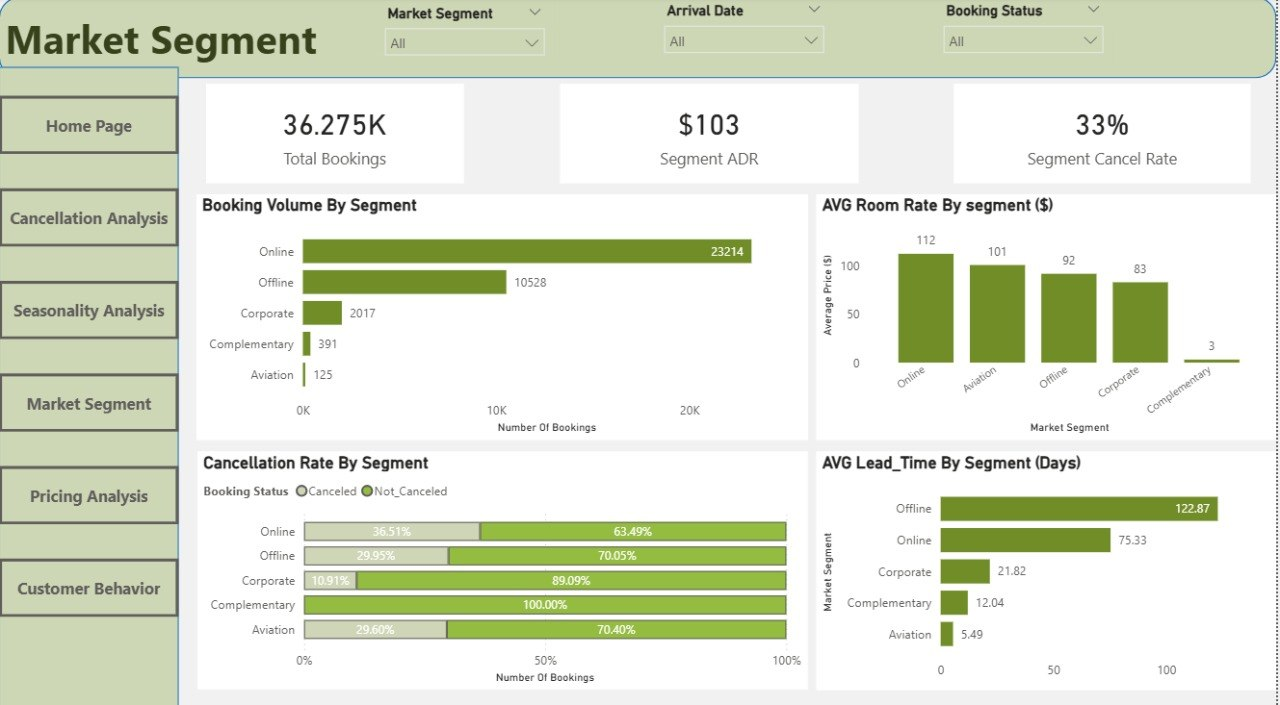

The dashboard page shown, as its layout file describes it:
{"tool":"powerbi","page":{"name":"Market Segment ","canvas":[1280,720],"ordinal":3},"visuals":[{"type":"shape","title":" ","box":[0,0,1280,81.2],"z":0},{"type":"hundredPercentStackedBarChart","title":"Cancellation Rate By Segment ","fields":{"Category":["Dim_Segment.market_segment_type"],"Y":["CountNonNull(Fact _Reservations.Booking_ID)"],"Series":["Dim_status.booking_status"]},"box":[198.8,456.2,611.2,238.8],"z":1000},{"type":"clusteredBarChart","title":"Booking Volume By Segment","fields":{"Category":["Dim_Segment.market_segment_type"],"Y":["Count(Fact _Reservations.Booking_ID)"]},"box":[197.5,197.5,612.5,246.2],"z":2000},{"type":"clusteredBarChart","title":"AVG Lead_Time By Segment (Days)","fields":{"Category":["Dim_Segment.market_segment_type"],"Y":["Avg(Fact _Reservations.lead_time)"]},"box":[819,456,461,239],"z":3000},{"type":"shape","box":[0,69.8,180.1,650.5],"z":4000},{"type":"clusteredColumnChart","title":"AVG Room  Rate By segment ($)","fields":{"Category":["Dim_Segment.market_segment_type"],"Y":["Avg(Fact _Reservations.avg_price_per_room)"]},"box":[819.2,197.9,460.9,246.1],"z":5000},{"type":"slicer","fields":{"Values":["Dim_status.booking_status"]},"box":[936.2,0,180,67.5],"z":6000},{"type":"slicer","fields":{"Values":["Fact _Reservations.arrival_date"]},"box":[656.2,0,180,70],"z":7000},{"type":"card","title":"Total Bookings ","fields":{"Values":["Dim_Date.Total_Booking"]},"box":[207.5,86.9,258.2,100.1],"z":8000},{"type":"card","title":"Segment ADR","fields":{"Values":["Dim_Date.Avg room price"]},"box":[561.6,86.9,299.2,100.1],"z":9000},{"type":"slicer","fields":{"Values":["Dim_Segment.market_segment_type"]},"box":[376.2,2.5,180,56.2],"z":10000},{"type":"card","title":"Segment cancel Rate","fields":{"Values":["Dim_Date.Cancelation Rate"]},"box":[956.7,86.9,298,100.1],"z":11000},{"type":"actionButton","box":[0,98.8,180,58.8],"z":12000},{"type":"actionButton","box":[0,191.8,180,58.8],"z":13000},{"type":"actionButton","box":[0,284.8,180,58.8],"z":14000},{"type":"actionButton","box":[0,377.8,180,58.8],"z":15000},{"type":"actionButton","box":[0,470.8,180,58.8],"z":16000},{"type":"actionButton","box":[0,563.8,180,58.8],"z":17000}]}

Visuals, with their boxes in screenshot pixels (x1, y1, x2, y2), scaled from the page's 1280x720 canvas onto the 1280x705 screenshot:
" " shape: [0, 0, 1279, 80]
"Cancellation Rate By Segment " hundredPercentStackedBarChart: [199, 447, 810, 681]
"Booking Volume By Segment" clusteredBarChart: [198, 193, 810, 434]
"AVG Lead_Time By Segment (Days)" clusteredBarChart: [819, 446, 1279, 681]
shape: [0, 68, 180, 704]
"AVG Room  Rate By segment ($)" clusteredColumnChart: [819, 194, 1279, 435]
slicer - Dim_status.booking_status: [936, 0, 1116, 66]
slicer - Fact _Reservations.arrival_date: [656, 0, 836, 69]
"Total Bookings " card: [208, 85, 466, 183]
"Segment ADR" card: [562, 85, 861, 183]
slicer - Dim_Segment.market_segment_type: [376, 2, 556, 57]
"Segment cancel Rate" card: [957, 85, 1255, 183]
actionButton: [0, 97, 180, 154]
actionButton: [0, 188, 180, 245]
actionButton: [0, 279, 180, 336]
actionButton: [0, 370, 180, 428]
actionButton: [0, 461, 180, 519]
actionButton: [0, 552, 180, 610]
